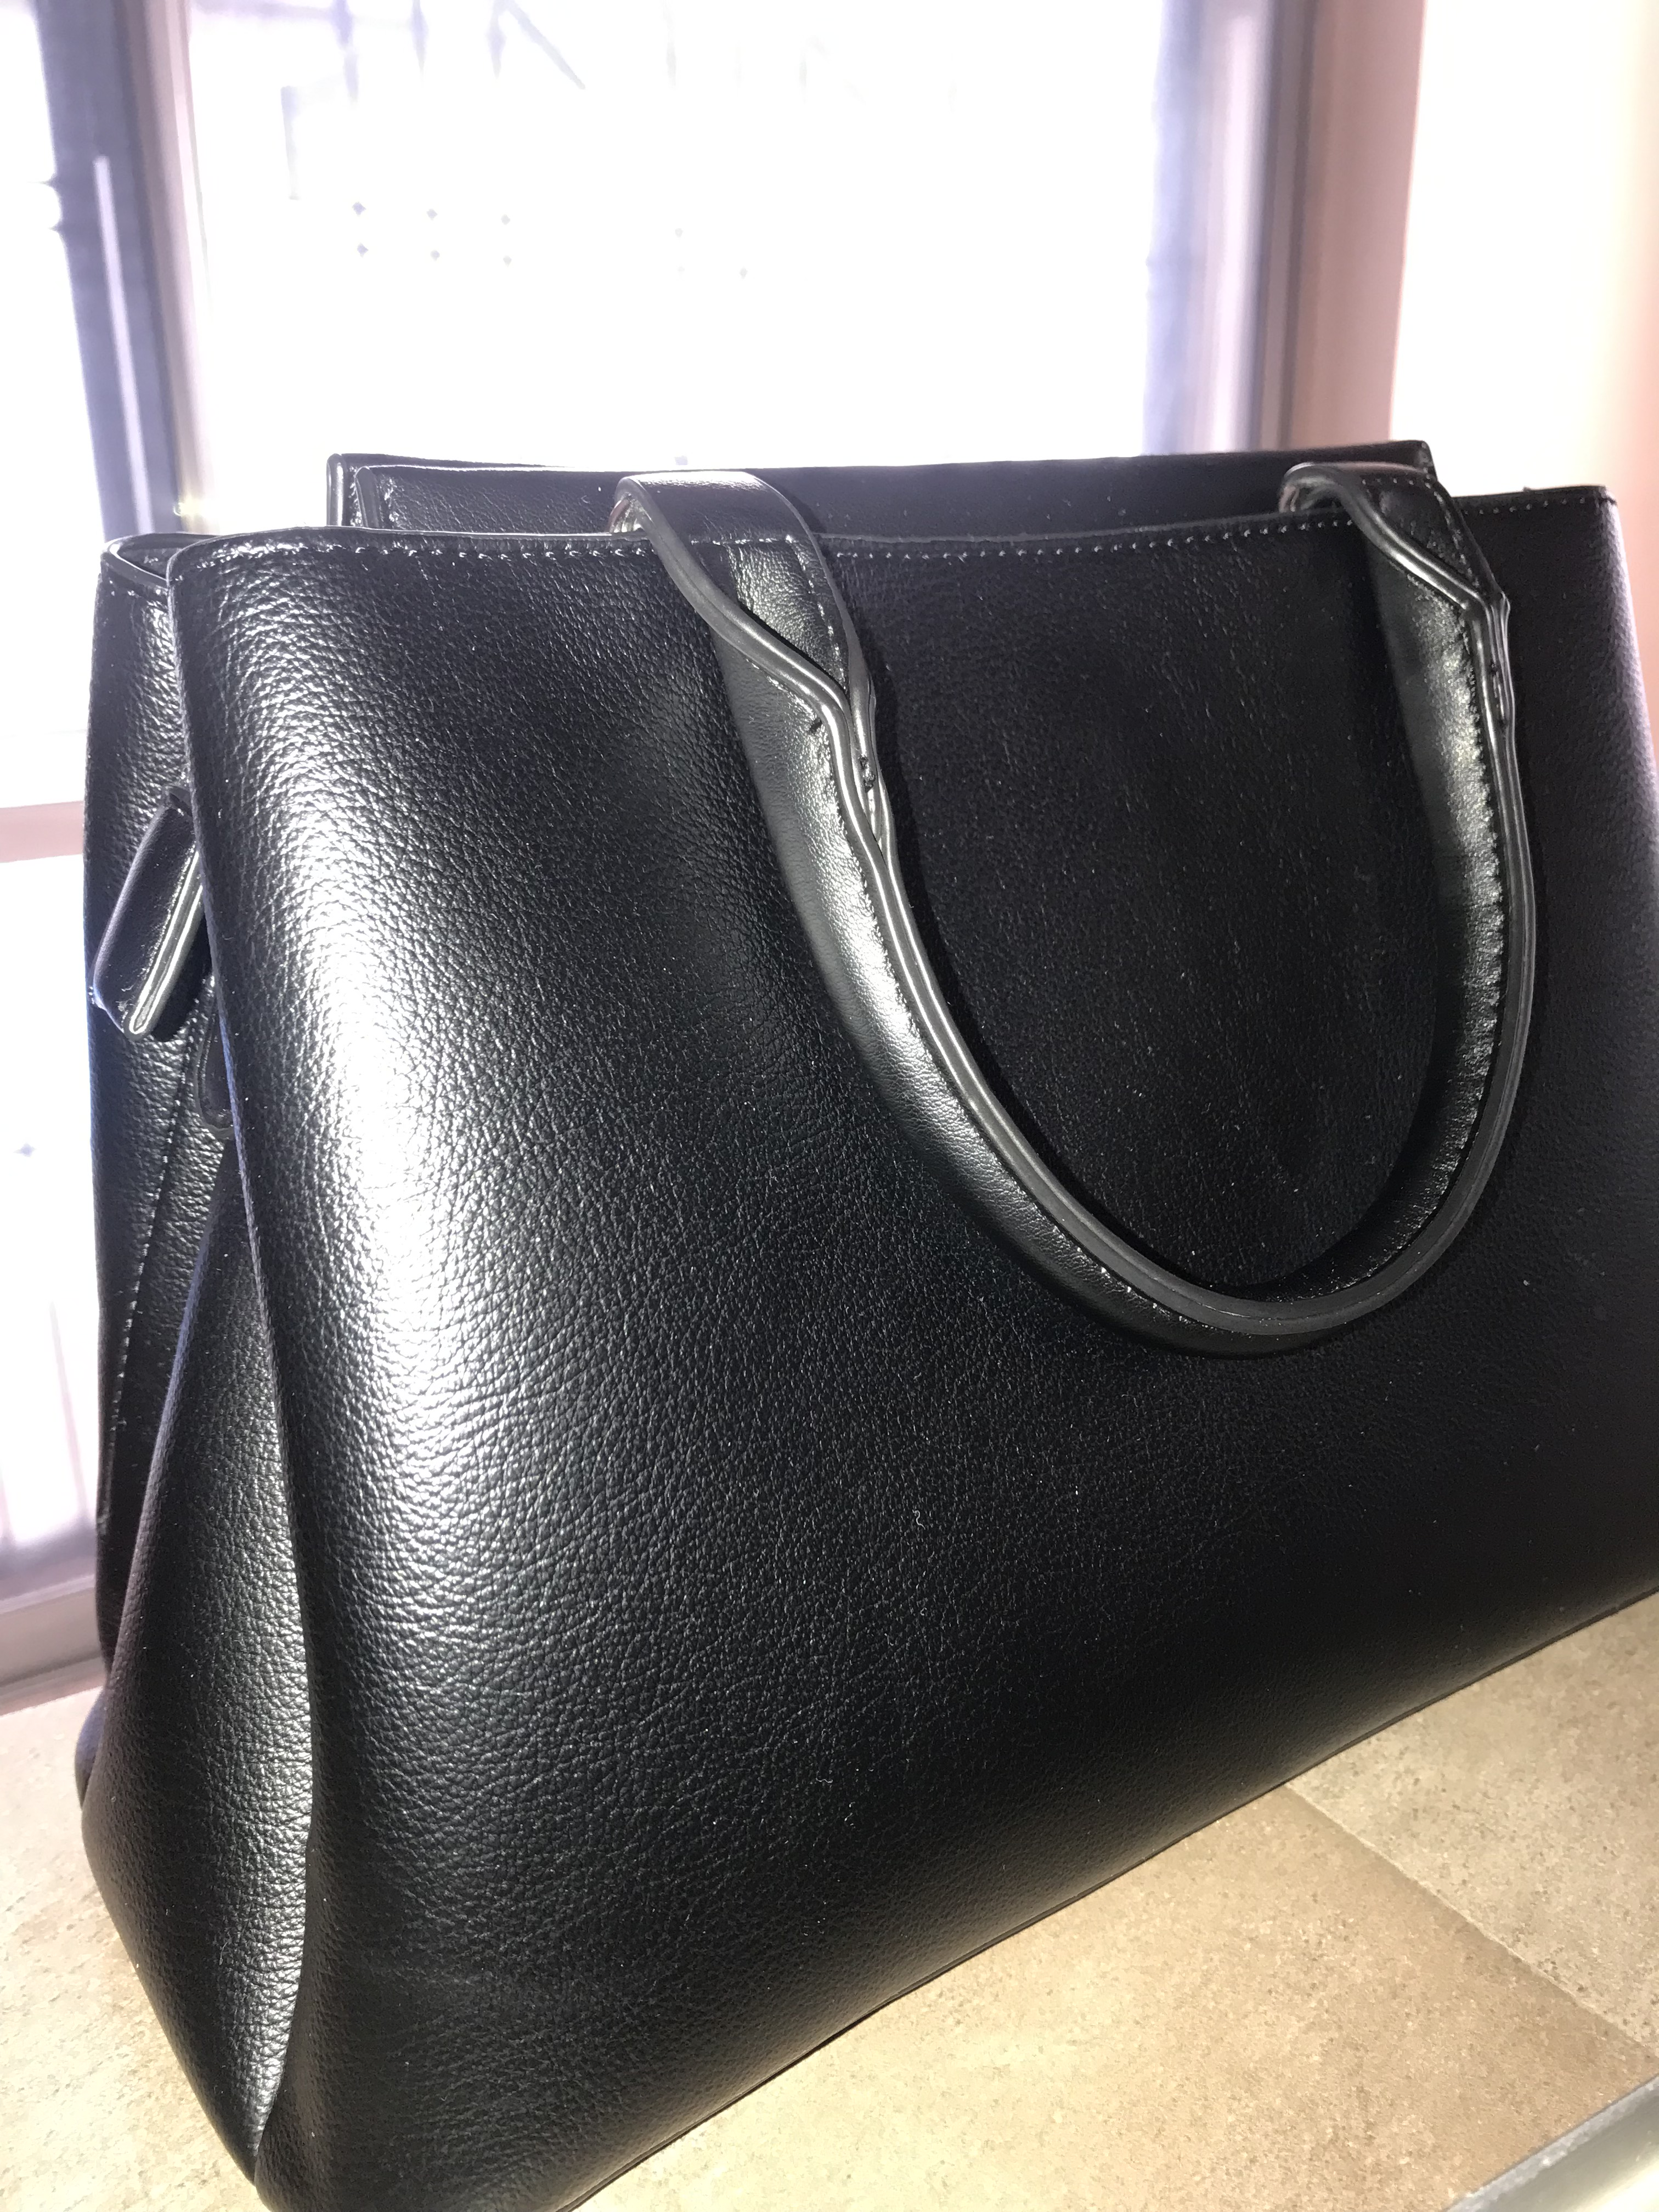cartera: (66, 442, 1647, 2212)
cuero: (376, 648, 692, 1113)
